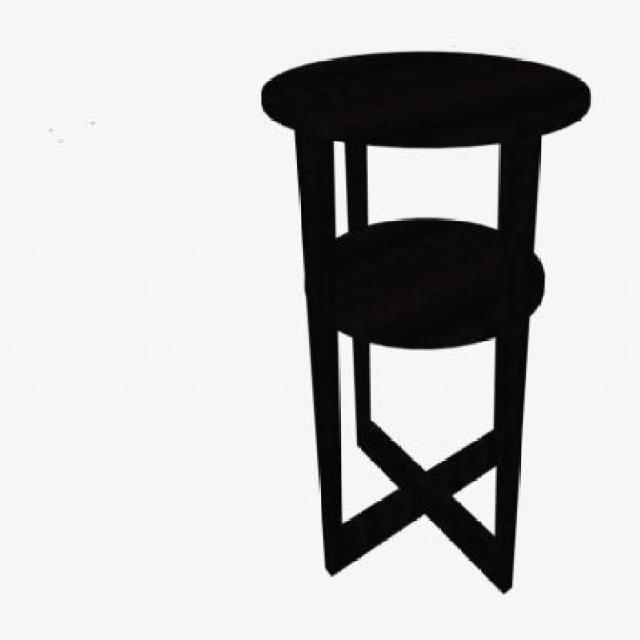table: (259, 48, 590, 598)
